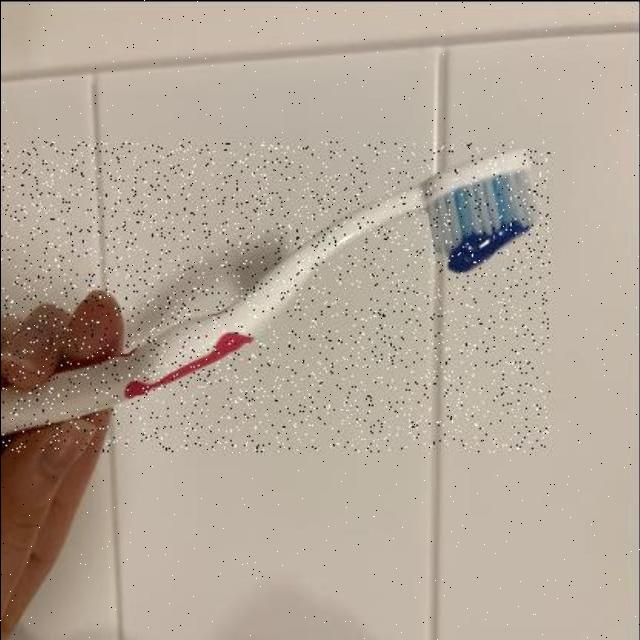toothbrush: (0, 140, 550, 450)
